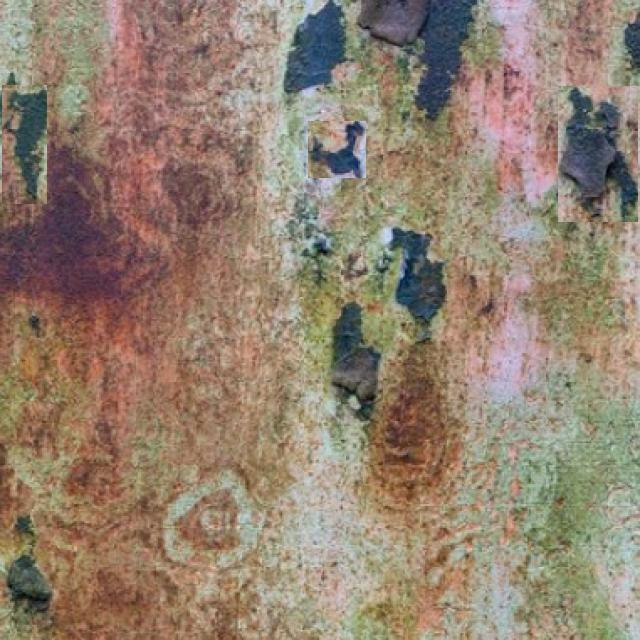Corrosion: (114, 0, 278, 222), (38, 400, 177, 640), (0, 148, 122, 298), (59, 214, 169, 334), (373, 342, 448, 488), (359, 0, 430, 44)
